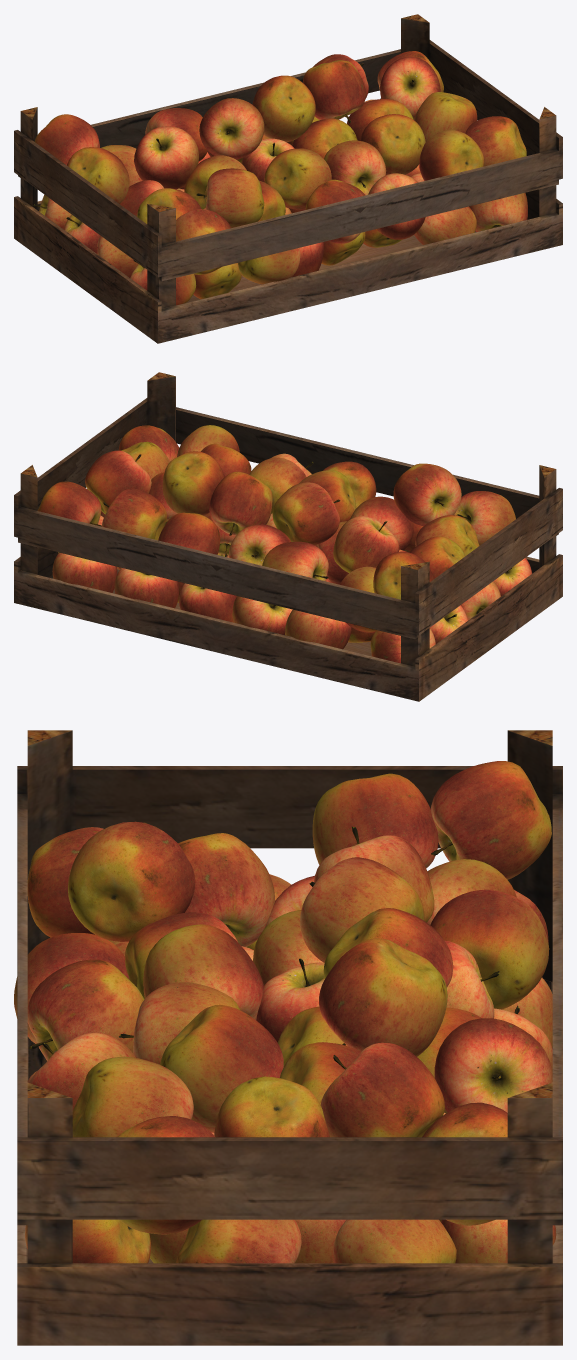
File: apple_box.glb
3 views of the same model, one above another, from view 1: azimuth 30°, elevation 25°; view 2: azimuth 150°, elevation 25°; view 3: azimuth 270°, elevation 25° (orthographic). The views are drawn at different scales.
Visible parts, largest first — view 1: Object_3, Object_4, Object_5; view 2: Object_3, Object_4, Object_5; view 3: Object_3, Object_4, Object_5.
Boxes of the visible parts, bbox=[...] form: Object_3: bbox=[14, 14, 562, 343]; Object_4: bbox=[33, 51, 527, 305]; Object_5: bbox=[34, 58, 526, 228]; Object_3: bbox=[14, 372, 562, 701]; Object_4: bbox=[37, 425, 532, 663]; Object_5: bbox=[92, 425, 479, 632]; Object_3: bbox=[17, 730, 562, 1345]; Object_4: bbox=[14, 826, 556, 1263]; Object_5: bbox=[68, 761, 551, 1263].
Size of the model in its own units: 103 by 35.59 by 63.75.
Materials: 2 (2 with a texture image).
